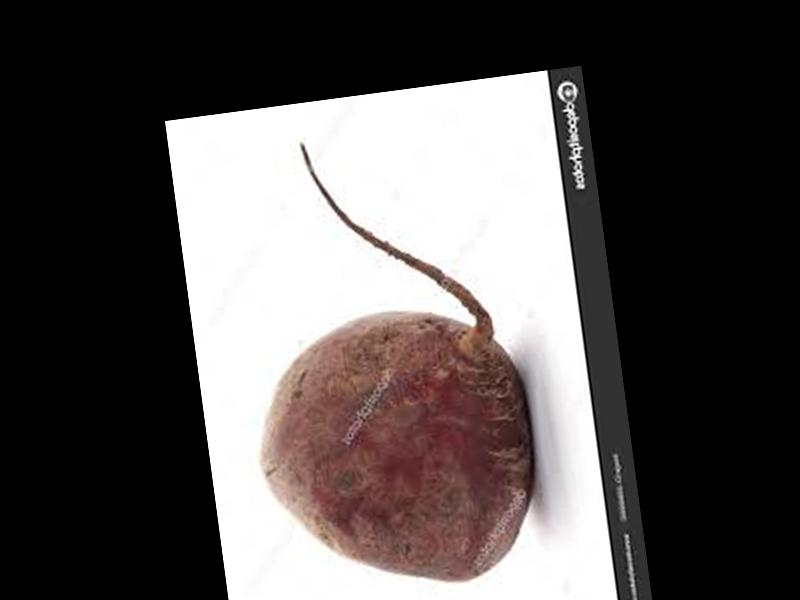Beet: (223, 120, 549, 600)
